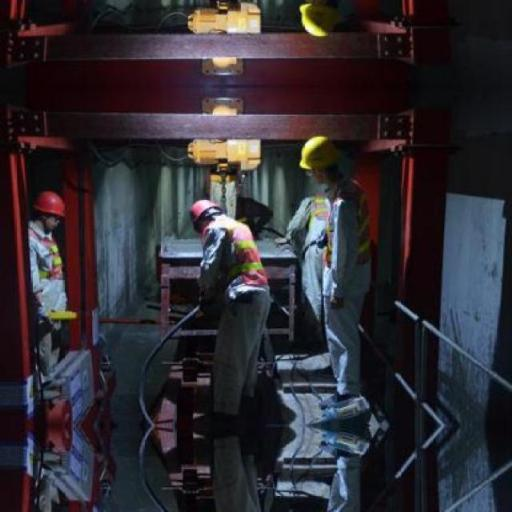helmet: (294, 131, 350, 180), (27, 186, 71, 224), (183, 195, 226, 227)
vest: (197, 215, 276, 299), (306, 180, 382, 264), (20, 227, 72, 297), (298, 189, 340, 253)
